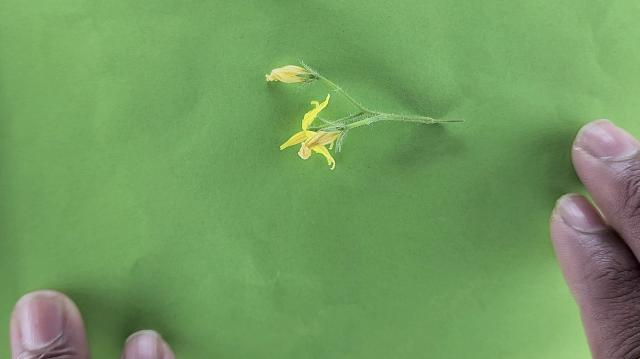Anthesis: (277, 93, 339, 168), (262, 62, 333, 94)
